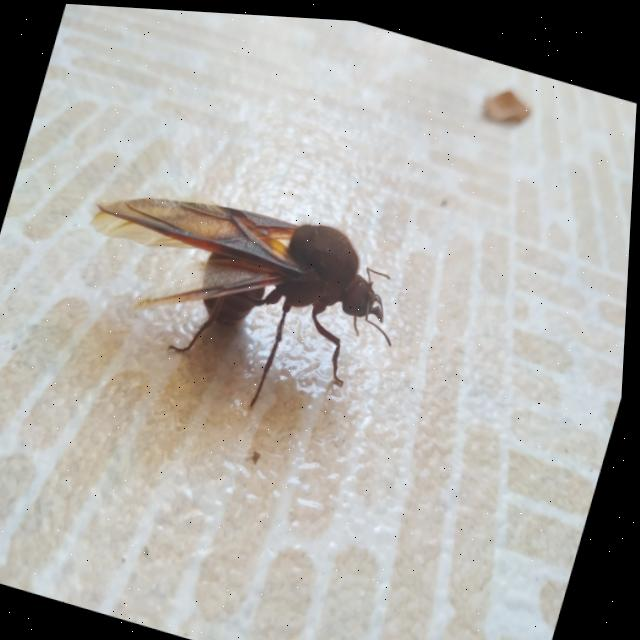Alive-Female-Alate: (52, 157, 423, 441)
